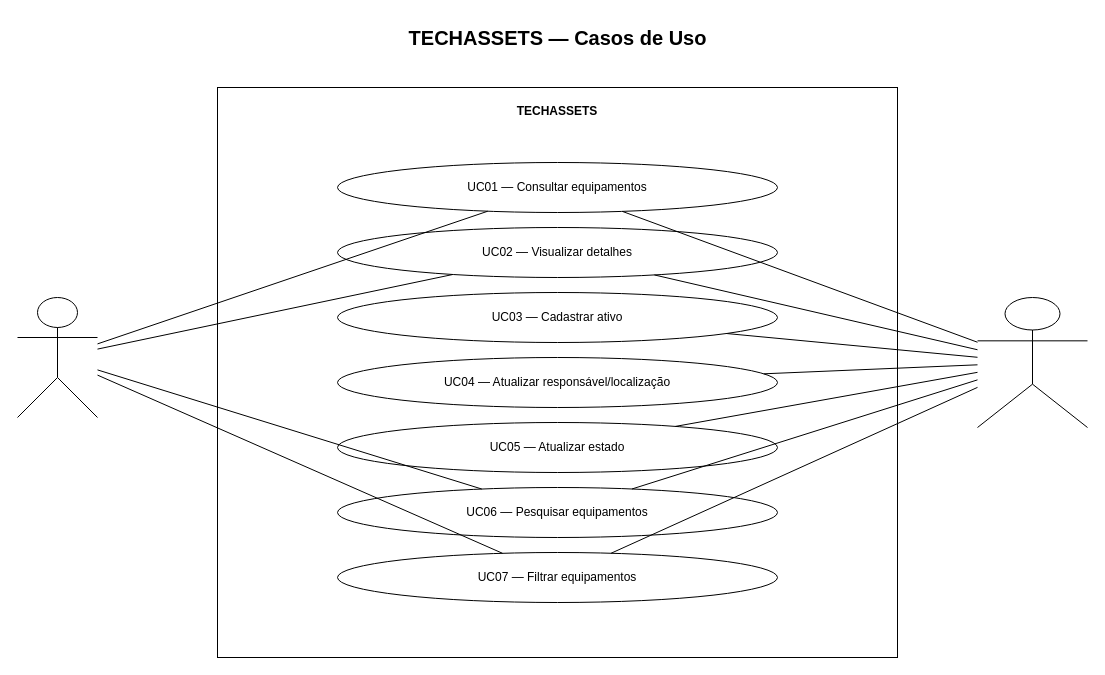
This 1105x675 diagram has some shape labels left out. Each missing label, with the centre of its shape:
"Usuário" belongs at point 57,357.
"Usuário Autorizado" belongs at point 1032,362.
